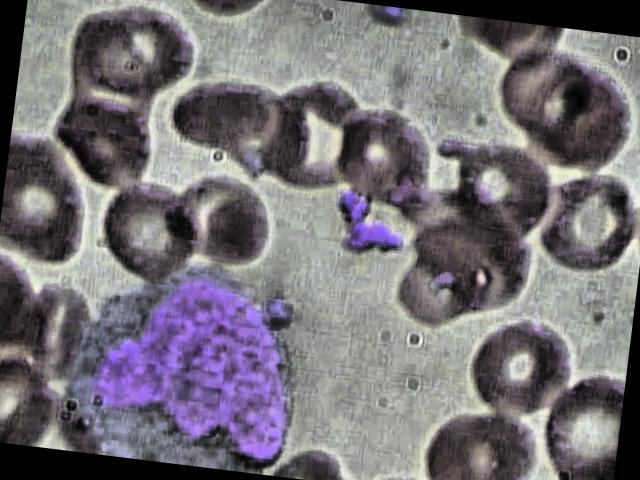Platelets: (337, 216, 377, 260), (258, 287, 302, 326), (369, 218, 409, 258), (329, 187, 373, 223)
RBC: (322, 99, 448, 209), (465, 316, 575, 426), (533, 165, 640, 275), (93, 176, 202, 278), (169, 166, 278, 268), (417, 395, 544, 480), (538, 366, 626, 480)
WBC: (50, 246, 318, 478)
